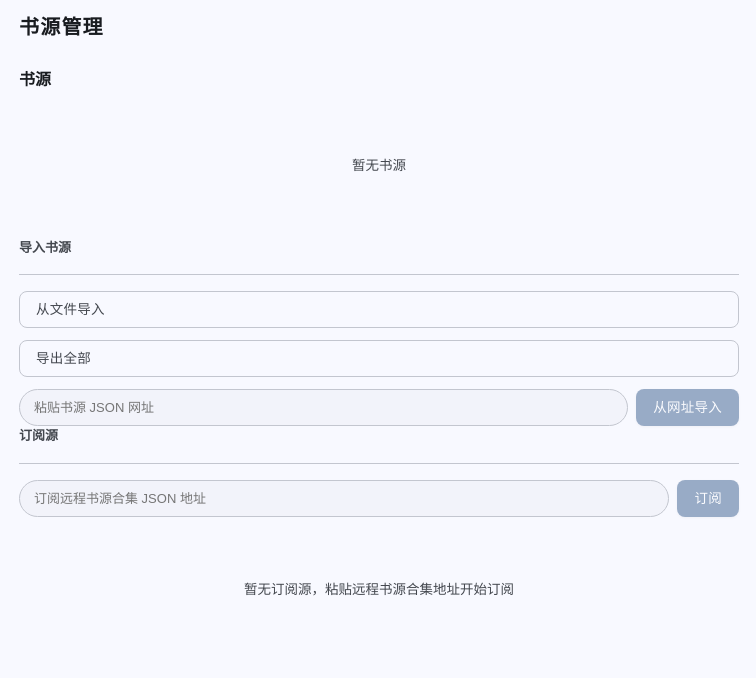
Test case: BookSourceManager › marks JS sources in the confirm list
This screenshot has width=756, height=678.
expect the text "暂无书源" is shown: met, box top-left (352, 156), bottom-right (406, 174)
Step 1. Type "https://example.com/c.json" into the field named "书源网址" → (324, 408), box top-left (19, 389), bottom-right (628, 426)
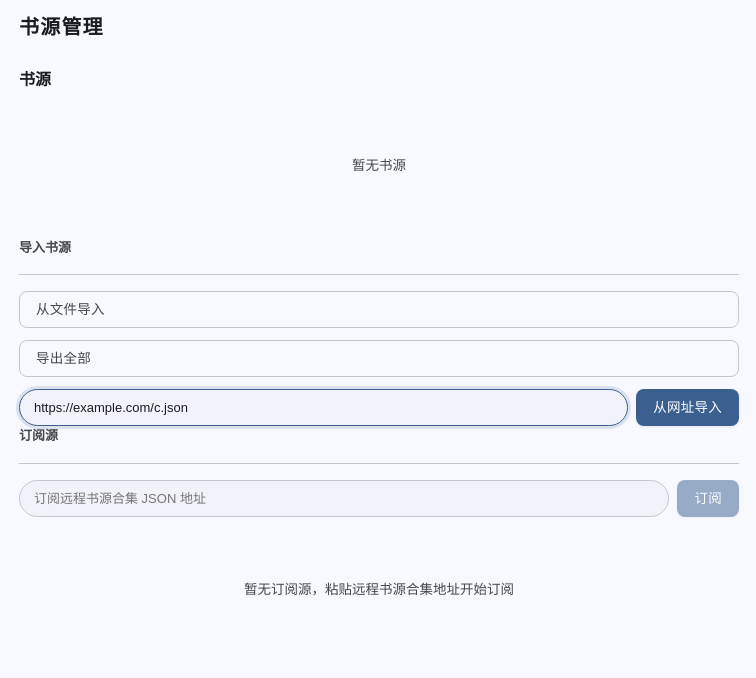
Step 2. Click the button "从网址导入" → click(688, 408), box top-left (636, 389), bottom-right (739, 426)
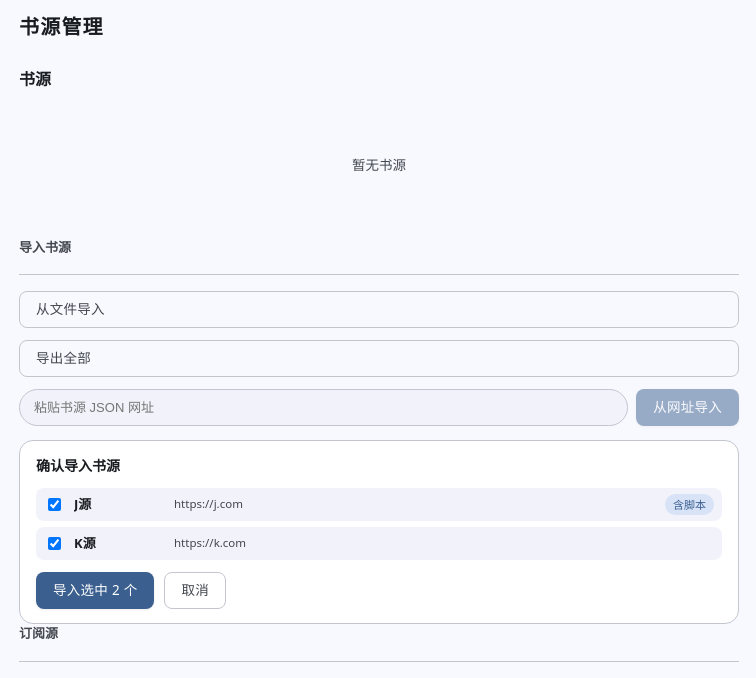
expect the text "含脚本" is shown: met, box top-left (665, 494), bottom-right (714, 515)
